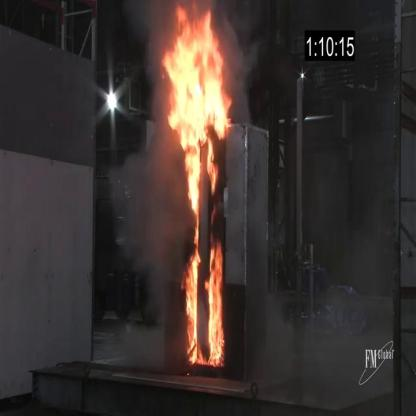fire: (156, 4, 240, 376)
